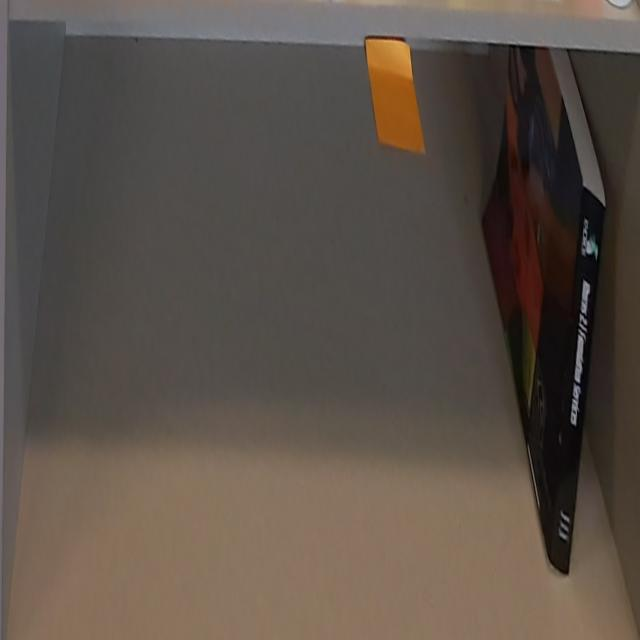Book Spine: (549, 197, 606, 577)
